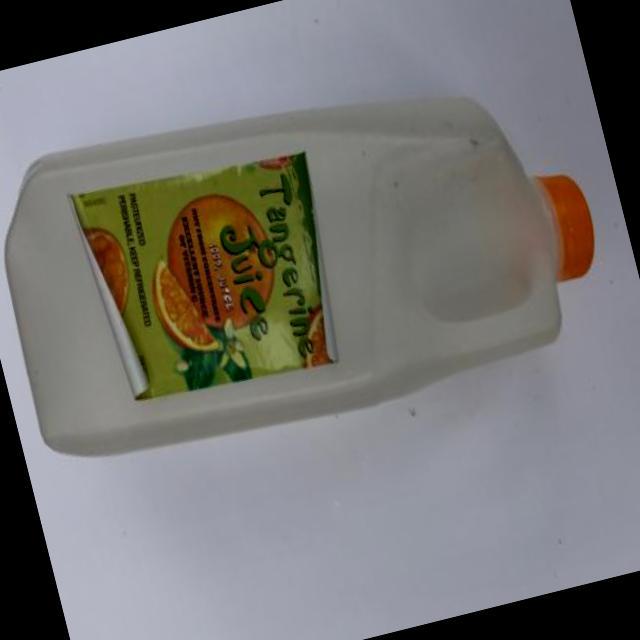Recycle: (0, 28, 621, 484)
